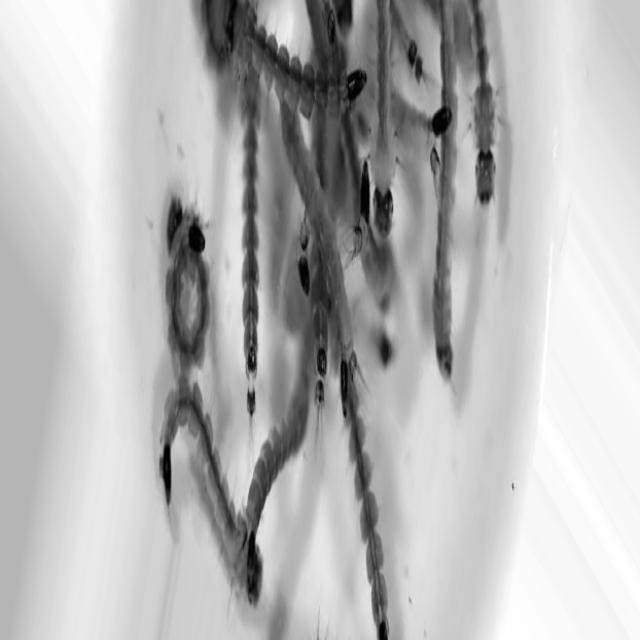larvas: (277, 110, 370, 383), (187, 0, 367, 135), (149, 394, 249, 597), (243, 350, 322, 557), (433, 0, 465, 375), (346, 380, 391, 638), (164, 197, 210, 365), (468, 0, 500, 194), (294, 232, 329, 405), (242, 80, 260, 402), (369, 2, 393, 240), (364, 314, 405, 369), (402, 99, 444, 148), (396, 3, 426, 70), (320, 0, 347, 54)
